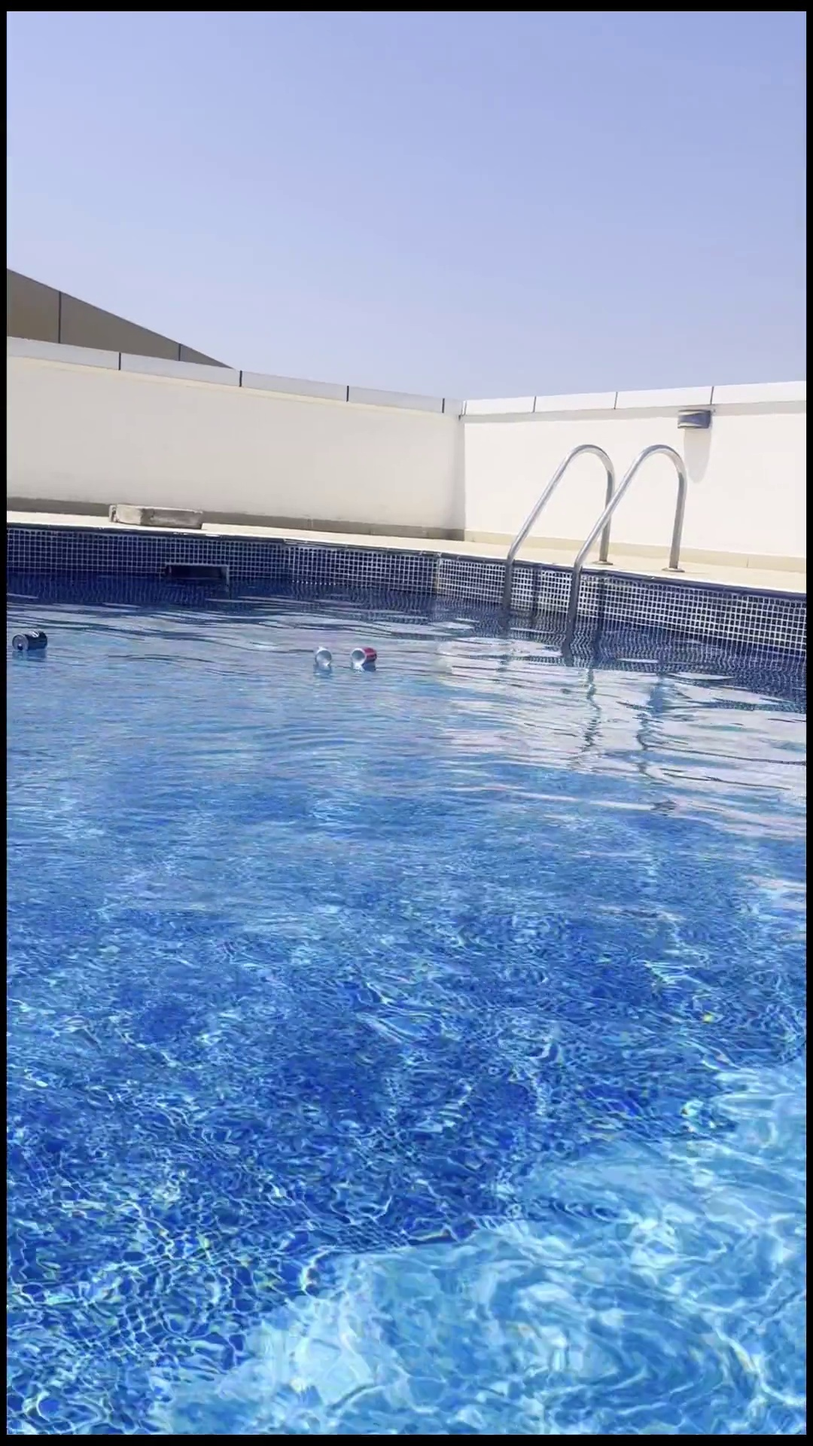debris: (12, 617, 47, 672), (349, 639, 377, 679), (309, 634, 331, 677)
